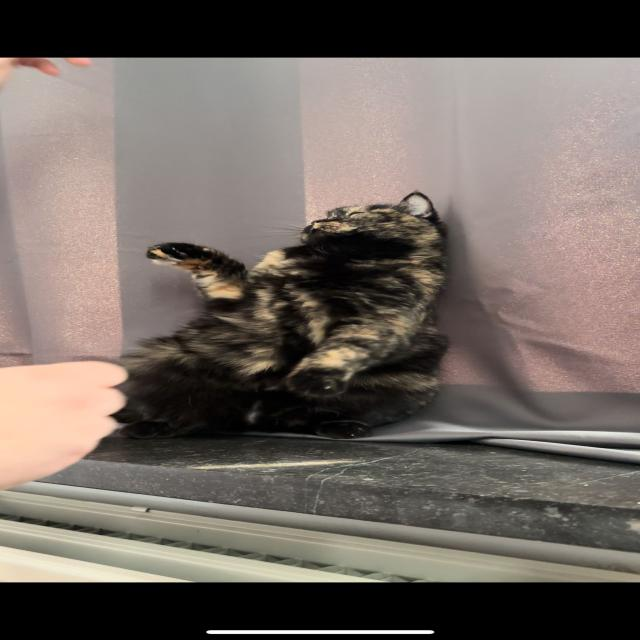authorized: (106, 190, 451, 440)
